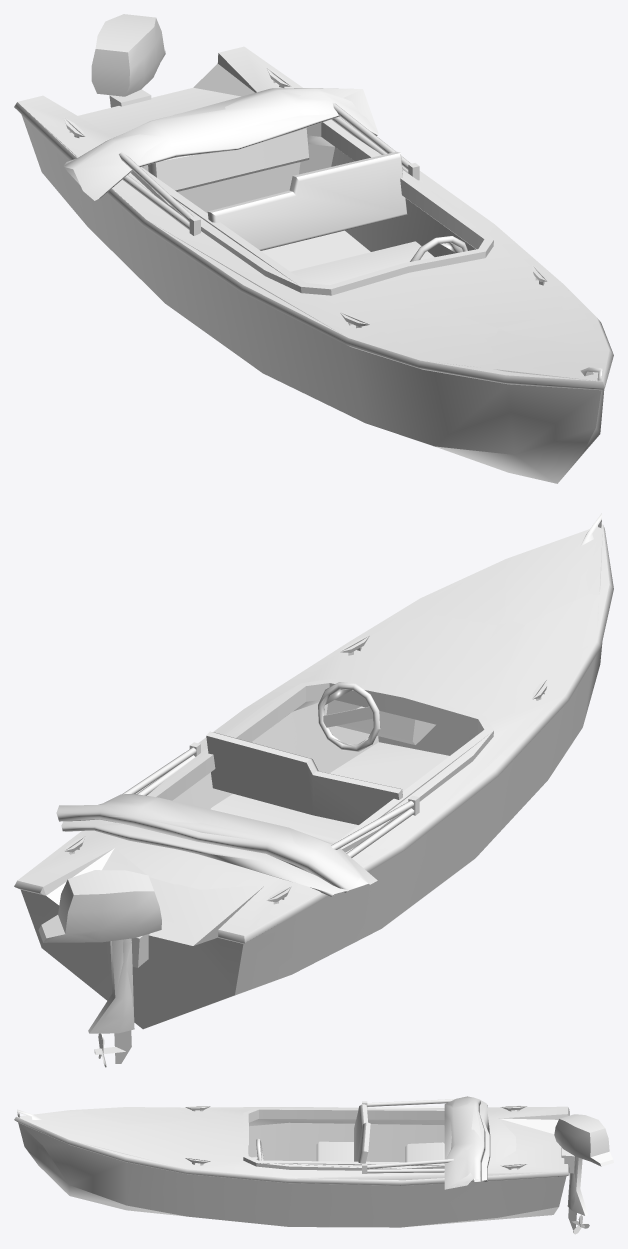
File: motorboat.glb
3 renders of one model, top to bottom at view 1: azimuth 30°, elevation 25°; view 2: azimuth 150°, elevation 25°; view 3: azimuth 270°, elevation 25°, orthographic. The views are drawn at different scales.
Parts seen in each view (by area): view 1: kit0, kit1, far; view 2: kit0, kit1, far; view 3: kit0, kit1, far.
Part boxes in pixels (<box>): kit0: <box>14,14,613,473</box>; kit1: <box>19,47,609,483</box>; far: <box>16,14,613,483</box>; kit0: <box>14,513,613,1066</box>; kit1: <box>18,521,602,1067</box>; far: <box>16,521,612,1064</box>; kit0: <box>14,1096,613,1233</box>; kit1: <box>18,1100,605,1229</box>; far: <box>17,1097,613,1234</box>.
Bounding box in the file's own units: 2 × 1.31 × 6.
1 material, 1 textured.
